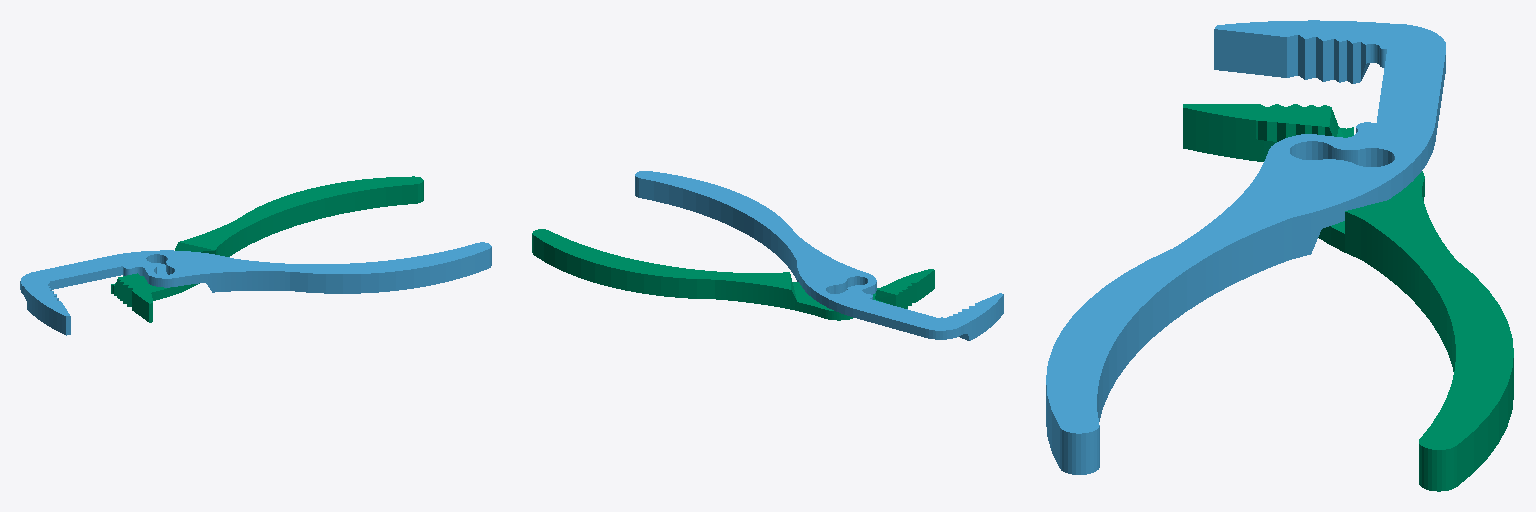
URDF robot description (partnet_3778c94f6a14bdf2ef377a5b07a342c0):
<?xml version="1.0" ?>
<robot name="partnet_3778c94f6a14bdf2ef377a5b07a342c0">
	<link name="base"/>
	<link name="link_0">
		<visual name="leg-1">
			<origin xyz="0 0 -0.2796191996335982"/>
			<geometry>
				<mesh filename="textured_objs/original-3.obj"/>
			</geometry>
		</visual>
		<visual name="leg-1">
			<origin xyz="0 0 -0.2796191996335982"/>
			<geometry>
				<mesh filename="textured_objs/original-2.obj"/>
			</geometry>
		</visual>
		<collision>
			<origin xyz="0 0 -0.2796191996335982"/>
			<geometry>
				<mesh filename="textured_objs/original-3.obj"/>
			</geometry>
		</collision>
		<collision>
			<origin xyz="0 0 -0.2796191996335982"/>
			<geometry>
				<mesh filename="textured_objs/original-2.obj"/>
			</geometry>
		</collision>
	</link>
	<joint name="joint_0" type="revolute">
		<origin xyz="0 0 0.2796191996335982"/>
		<axis xyz="0 -1 0"/>
		<child link="link_0"/>
		<parent link="link_1"/>
		<limit lower="-0.0" upper="0.7853981633974483"/>
	</joint>
	<link name="link_1">
		<visual name="base_body-2">
			<origin xyz="0 0 0"/>
			<geometry>
				<mesh filename="textured_objs/original-4.obj"/>
			</geometry>
		</visual>
		<collision>
			<origin xyz="0 0 0"/>
			<geometry>
				<mesh filename="textured_objs/original-4.obj"/>
			</geometry>
		</collision>
	</link>
	<joint name="joint_1" type="fixed">
		<origin rpy="1.570796326794897 0 -1.570796326794897" xyz="0 0 0"/>
		<child link="link_1"/>
		<parent link="base"/>
	</joint>
</robot>

--- Facts derived from the render (not from the file) ---
The picture shows the robot from 3 angles, left to right: view 1: azimuth 30°, elevation 25°; view 2: azimuth 150°, elevation 25°; view 3: azimuth 270°, elevation 25°; orthographic projection.
Robot: partnet_3778c94f6a14bdf2ef377a5b07a342c0 — 3 links, 2 joints (1 revolute, 1 fixed); root link base; default pose: all joints at 0.
Visible links, largest first — view 1: link_0, link_1; view 2: link_0, link_1; view 3: link_0, link_1.
Boxes of the visible links, x1=… form: link_0: x1=20, y1=242, x2=491, y2=335; link_1: x1=111, y1=176, x2=423, y2=322; link_0: x1=635, y1=171, x2=1003, y2=340; link_1: x1=532, y1=229, x2=934, y2=320; link_0: x1=1046, y1=20, x2=1445, y2=474; link_1: x1=1183, y1=104, x2=1513, y2=491.
Size in the robot's own frame: 1.92 by 0.8827 by 0.1036 metres.
Meshes: 3 distinct files referenced, 3 mesh visuals loaded (3 OBJ).